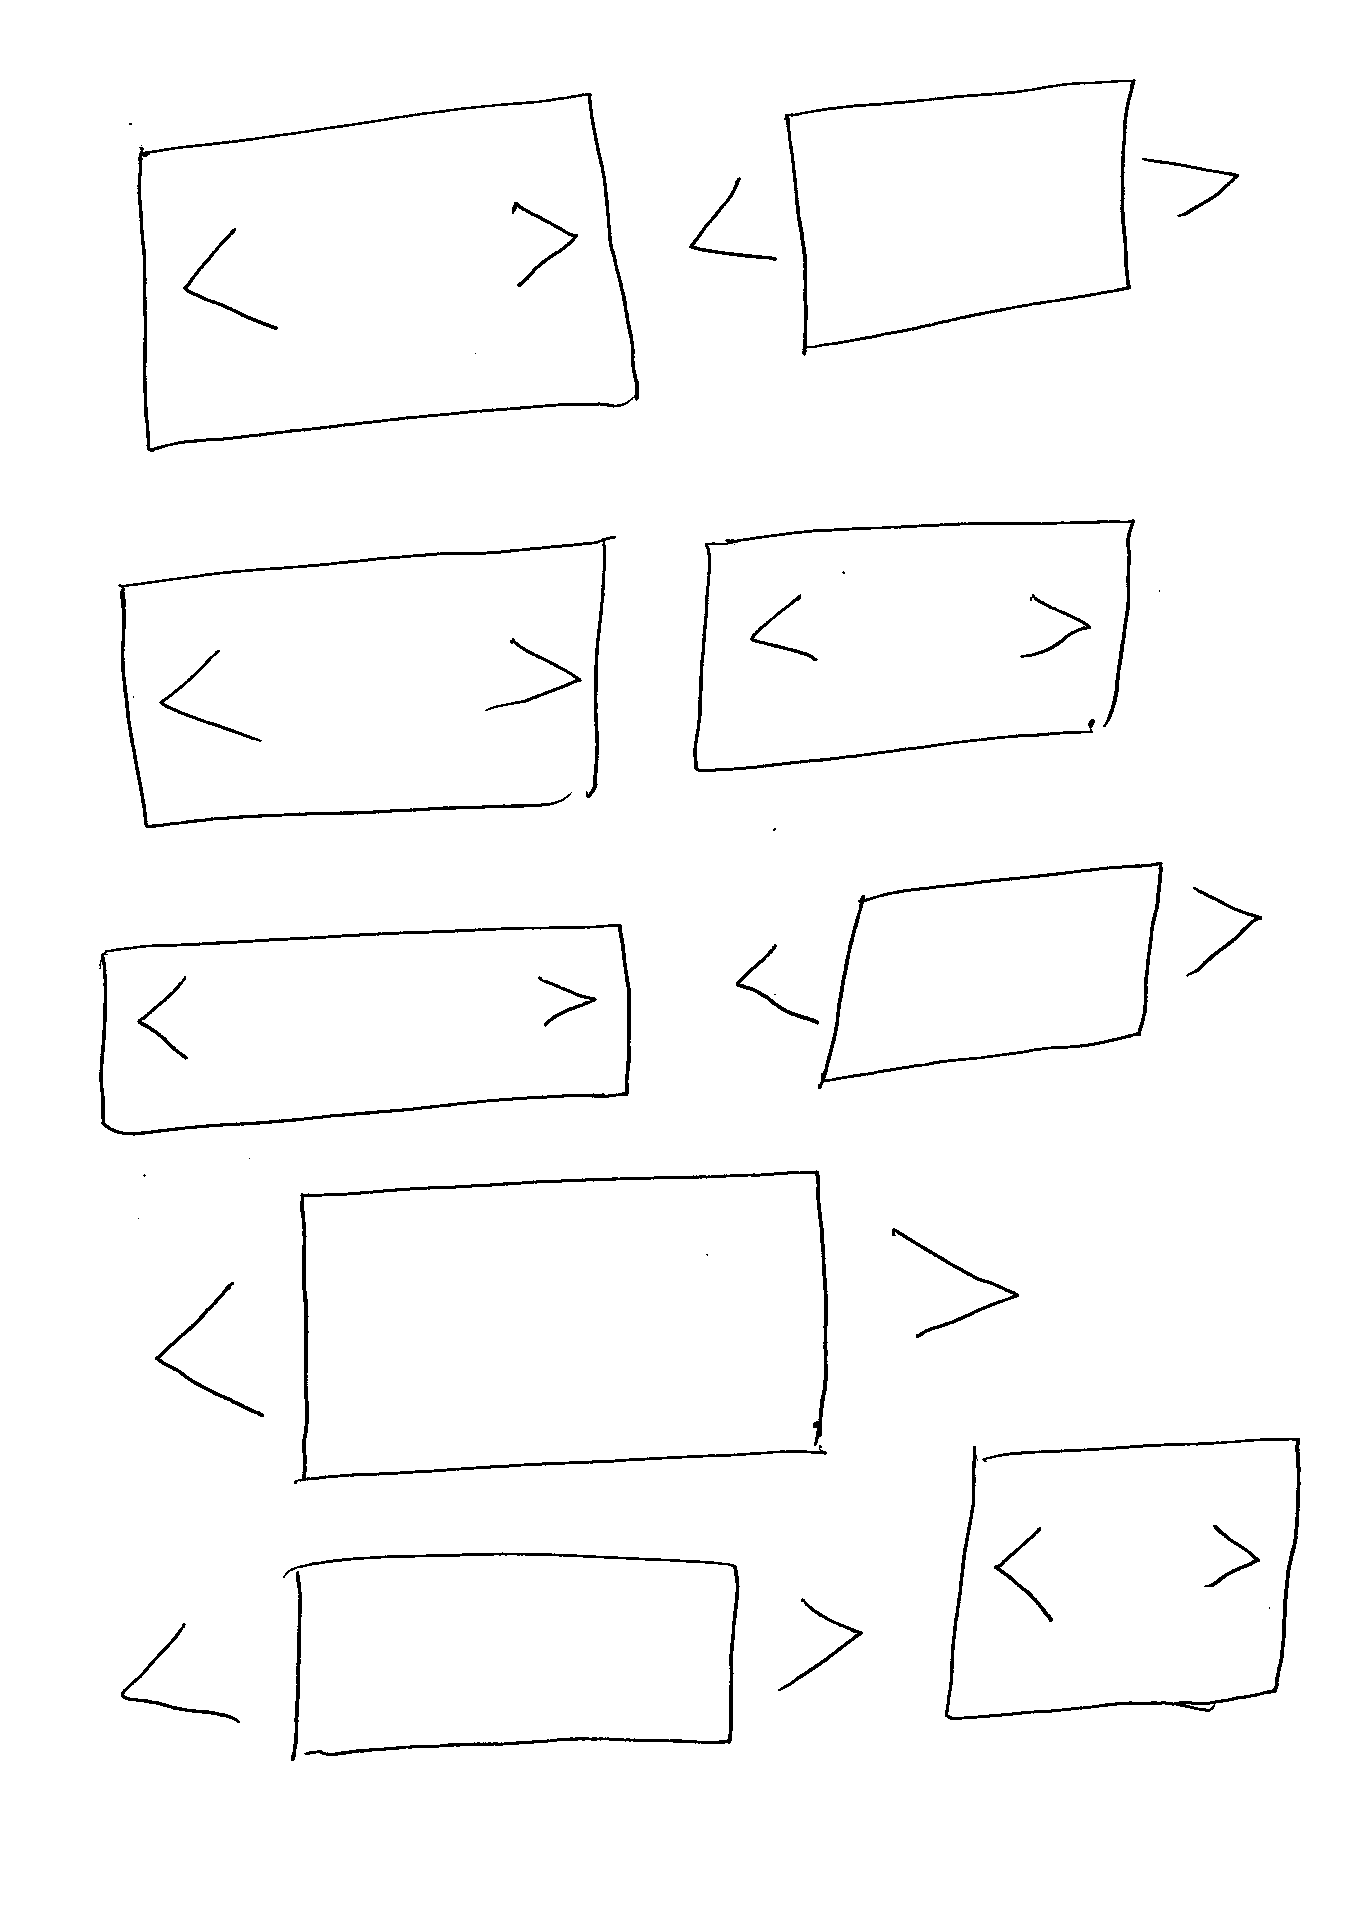Carousel: (149, 1170, 1013, 1480), (133, 78, 648, 452), (111, 1550, 866, 1765), (680, 75, 1240, 356), (114, 532, 608, 832), (733, 858, 1263, 1085), (95, 920, 636, 1138), (689, 515, 1135, 778), (942, 1433, 1302, 1724)
